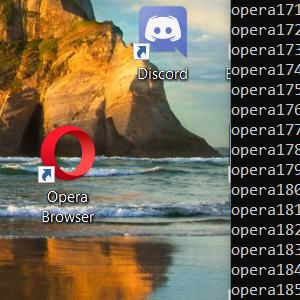opera: (37, 127, 95, 184)
